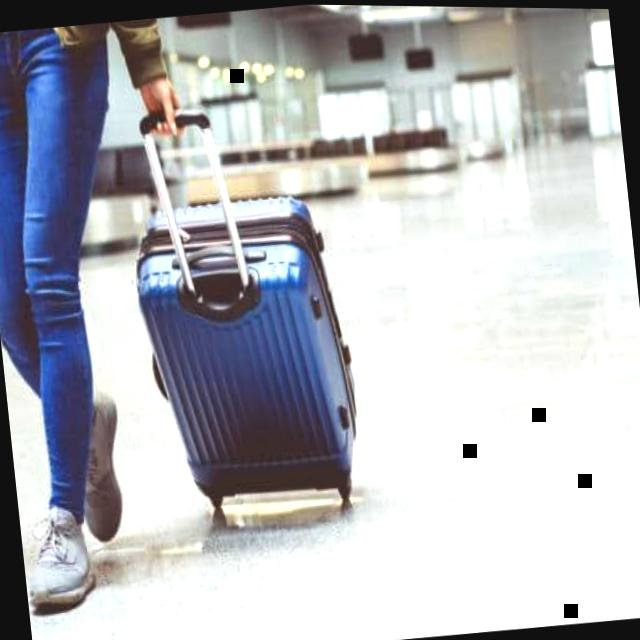luggage: (125, 177, 372, 516)
